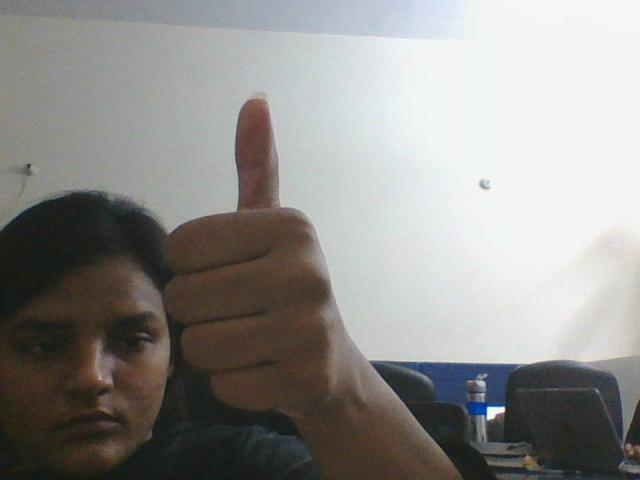thumbs-up: (162, 90, 345, 411)
